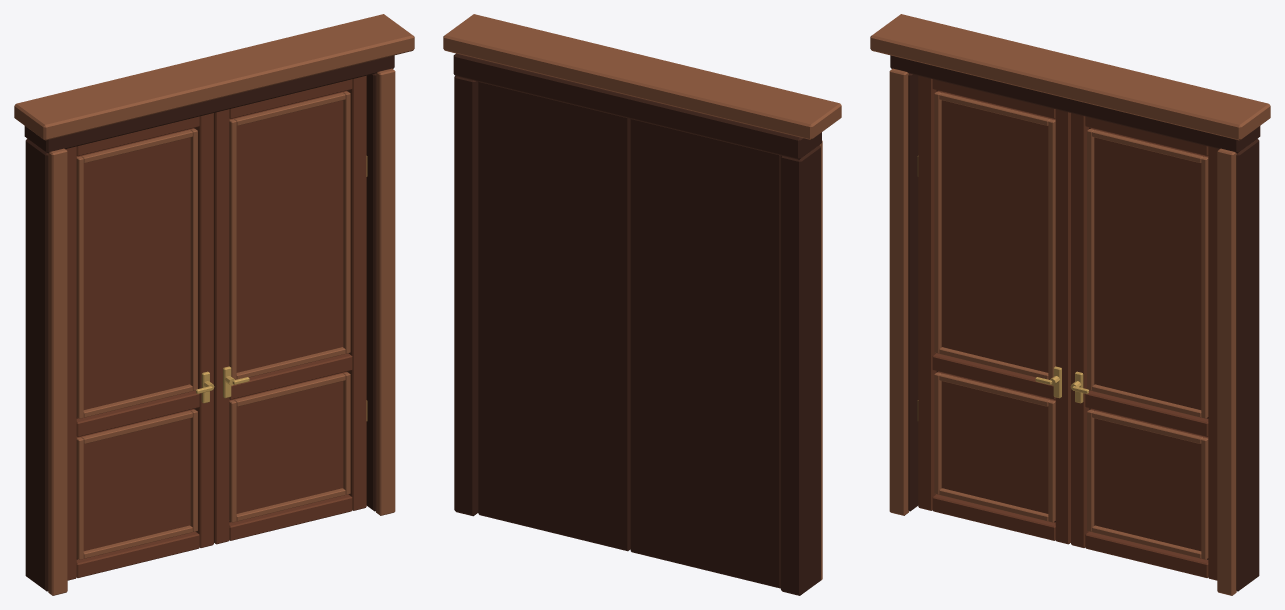
File: door_19.glb
3 renders of one model, left to right at view 1: azimuth 30°, elevation 25°; view 2: azimuth 150°, elevation 25°; view 3: azimuth 330°, elevation 25°, orthographic.
Parts seen in each view (by area): view 1: Panel_0_1_Field, Panel_1_1_Field, Cornice, Panel_0_0_Field, Panel_1_0_Field, Jamb__1, Jamb_moulding_1, Jamb_moulding__1, Leaf_stile_1_1, Leaf_stile_1__1, Leaf_stile_0_1, Lintel (+24 smaller); view 2: Leaf_1, Leaf_0, Jamb__1, Cornice, Jamb_1, Lintel, Jamb_moulding__1; view 3: Panel_0_1_Field, Panel_1_1_Field, Cornice, Panel_0_0_Field, Panel_1_0_Field, Jamb_1, Jamb_moulding_1, Jamb_moulding__1, Leaf_stile_0__1, Leaf_stile_0_1, Leaf_stile_1__1, Lintel (+24 smaller).
Part boxes in pixels (x1=…): Panel_0_1_Field: x1=76, y1=128, x2=194, y2=409; Panel_1_1_Field: x1=229, y1=91, x2=346, y2=372; Cornice: x1=14, y1=14, x2=414, y2=140; Panel_0_0_Field: x1=76, y1=409, x2=194, y2=551; Panel_1_0_Field: x1=229, y1=371, x2=346, y2=513; Jamb__1: x1=25, y1=138, x2=48, y2=591; Jamb_moulding_1: x1=376, y1=68, x2=395, y2=515; Jamb_moulding__1: x1=48, y1=148, x2=67, y2=595; Leaf_stile_1_1: x1=348, y1=75, x2=366, y2=510; Leaf_stile_1__1: x1=214, y1=109, x2=229, y2=544; Leaf_stile_0_1: x1=195, y1=113, x2=213, y2=547; Lintel: x1=24, y1=55, x2=394, y2=153; Leaf_1: x1=478, y1=81, x2=630, y2=551; Leaf_0: x1=630, y1=119, x2=781, y2=588; Jamb__1: x1=780, y1=145, x2=820, y2=595; Cornice: x1=443, y1=14, x2=841, y2=139; Jamb_1: x1=454, y1=76, x2=478, y2=516; Lintel: x1=453, y1=53, x2=821, y2=159; Jamb_moulding__1: x1=820, y1=140, x2=822, y2=580; Panel_0_1_Field: x1=938, y1=91, x2=1055, y2=372; Panel_1_1_Field: x1=1090, y1=128, x2=1208, y2=409; Cornice: x1=870, y1=14, x2=1270, y2=140; Panel_0_0_Field: x1=938, y1=371, x2=1055, y2=513; Panel_1_0_Field: x1=1090, y1=409, x2=1208, y2=551; Jamb_1: x1=1236, y1=138, x2=1259, y2=591; Jamb_moulding_1: x1=1217, y1=148, x2=1236, y2=595; Jamb_moulding__1: x1=889, y1=68, x2=908, y2=515; Leaf_stile_0__1: x1=918, y1=75, x2=936, y2=510; Leaf_stile_0_1: x1=1055, y1=109, x2=1070, y2=544; Leaf_stile_1__1: x1=1071, y1=113, x2=1089, y2=547; Lintel: x1=890, y1=55, x2=1260, y2=153.
Bounding box in the file's own units: 2.48 × 3.05 × 0.37.
